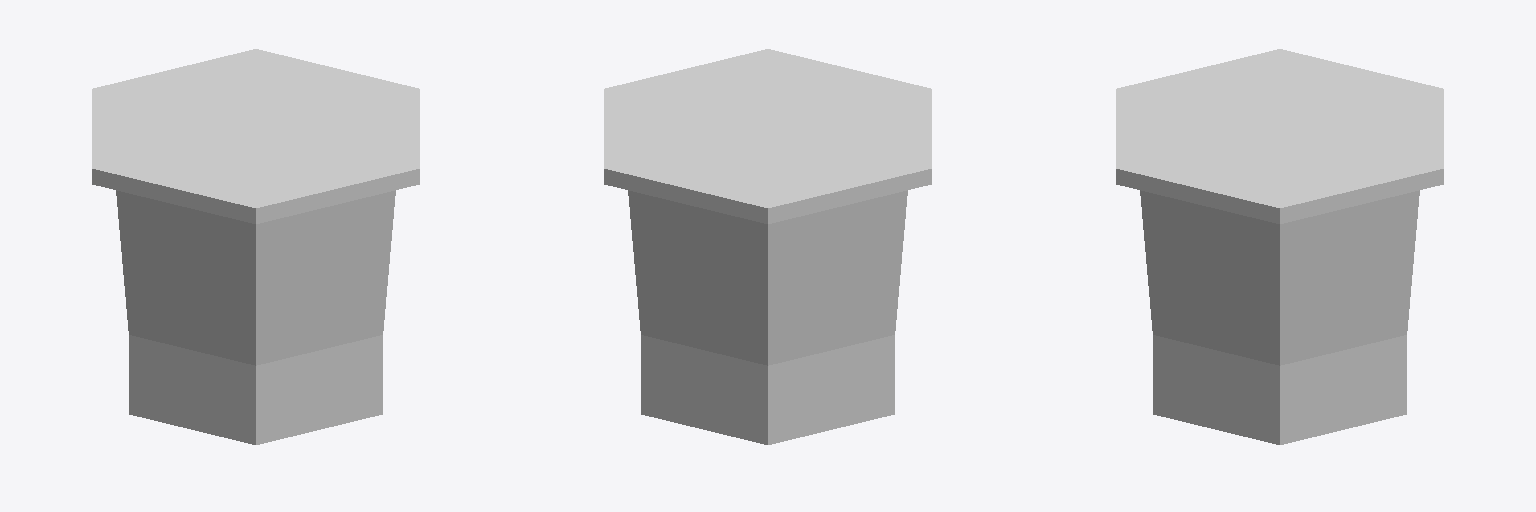
Rendered from ReagentBottle_Top.obj.
3 views of the same model, side by side, from view 1: azimuth 30°, elevation 25°; view 2: azimuth 150°, elevation 25°; view 3: azimuth 270°, elevation 25° (orthographic).
Parts seen in each view (by area): view 1: Mesh1 Model; view 2: Mesh1 Model; view 3: Mesh1 Model.
Part boxes in pixels (left/top/right/bottom): Mesh1 Model: left=92, top=49, right=419, bottom=444; Mesh1 Model: left=604, top=49, right=931, bottom=444; Mesh1 Model: left=1116, top=49, right=1443, bottom=444.
Size of the model in its own units: 0.043 by 0.032 by 0.0373.